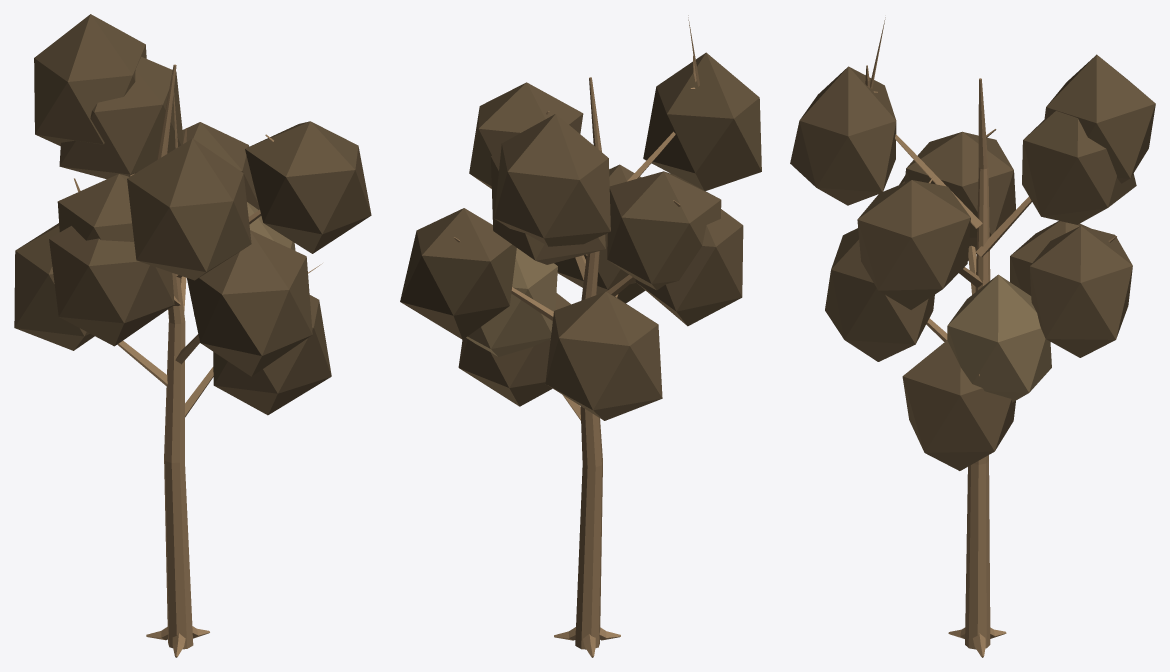
File: oak_winter_02.glb
The picture shows the model from 3 angles, left to right: view 1: azimuth 30°, elevation 25°; view 2: azimuth 150°, elevation 25°; view 3: azimuth 270°, elevation 25°; orthographic projection. The views are drawn at different scales.
Visible parts, largest first — view 1: Oak_winter_02; view 2: Oak_winter_02; view 3: Oak_winter_02.
Boxes of the visible parts, <box> form: Oak_winter_02: <box>14,14,371,657</box>; Oak_winter_02: <box>400,15,761,657</box>; Oak_winter_02: <box>790,17,1155,657</box>.
Bounding box in the file's own units: 8.55 × 17.81 × 9.76.
